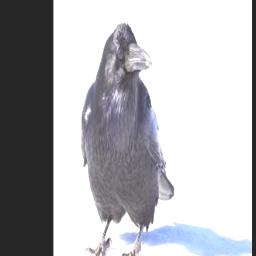Crow: (81, 19, 177, 256)
